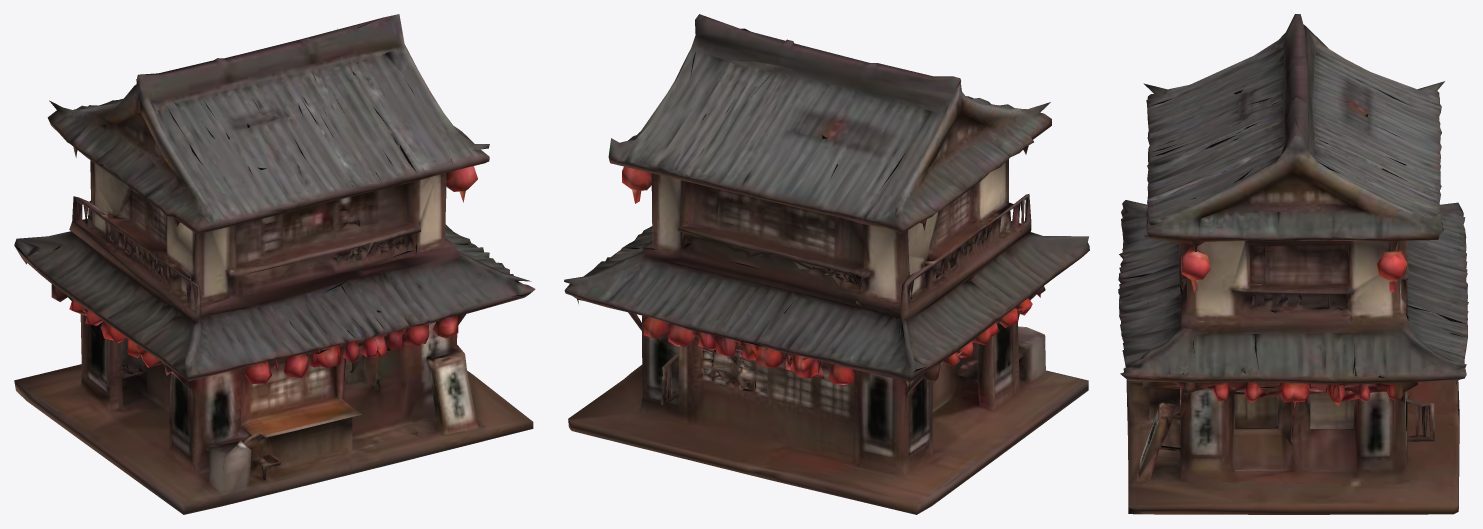
The model's file is bq_shop_lantern.bk.glb.
The picture shows the model from 3 angles, left to right: view 1: azimuth 30°, elevation 25°; view 2: azimuth 150°, elevation 25°; view 3: azimuth 270°, elevation 25°; orthographic projection. The views are drawn at different scales.
Parts seen in each view (by area): view 1: lo; view 2: lo; view 3: lo.
Boxes of the visible parts, box(x1,y1,x2,y2) form: lo: box(14, 14, 535, 514); lo: box(564, 14, 1089, 514); lo: box(1118, 14, 1468, 514).
Bounding box in the file's own units: 1.99 × 1.97 × 1.77.
1 material, 1 textured.
